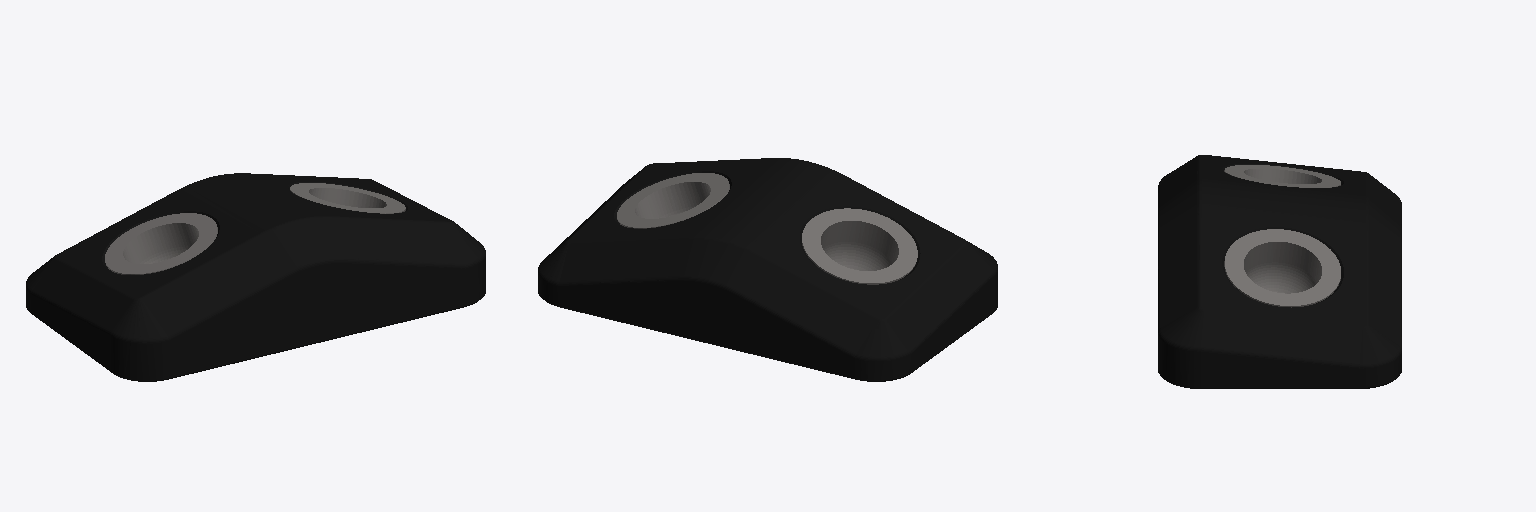
File: bracket.obj
3 renders of one model, left to right at view 1: azimuth 30°, elevation 25°; view 2: azimuth 150°, elevation 25°; view 3: azimuth 270°, elevation 25°, orthographic.
Parts seen in each view (by area): view 1: 3DGeom-81, 3DGeom-124, 3DGeom-103; view 2: 3DGeom-81, 3DGeom-124, 3DGeom-103; view 3: 3DGeom-81, 3DGeom-103, 3DGeom-124.
Boxes of the visible parts, box(x1,y1,x2,y2) form: 3DGeom-81: box(26, 173, 485, 381); 3DGeom-124: box(105, 213, 217, 274); 3DGeom-103: box(290, 183, 405, 213); 3DGeom-81: box(538, 158, 997, 381); 3DGeom-124: box(802, 208, 917, 284); 3DGeom-103: box(617, 173, 729, 228); 3DGeom-81: box(1158, 155, 1401, 388); 3DGeom-103: box(1224, 229, 1340, 307); 3DGeom-124: box(1224, 165, 1340, 187).
Bounding box in the file's own units: 0.07 × 0.0235 × 0.04.